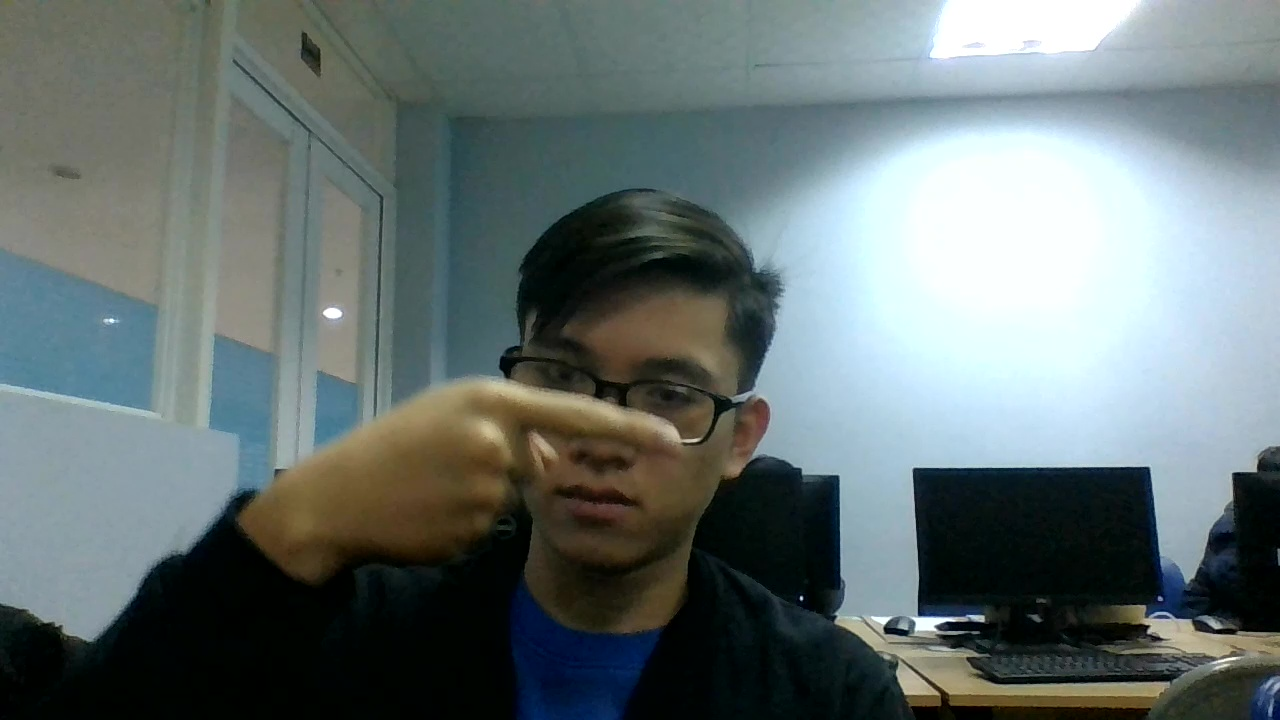left: (250, 373, 705, 548)
